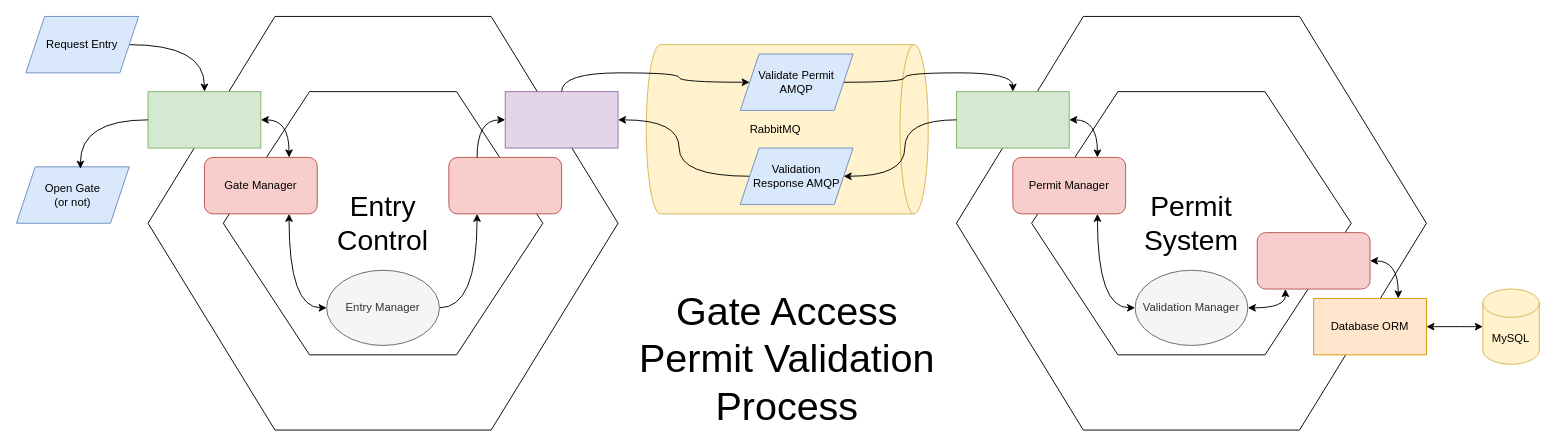
Image size: 1556x447. Some labels were removed from this diagram. The centre of each missing label's shape, as x and y in pixels:
AMQP Client: [561,119]
AMQP Receiver: [1012,119]
Gate Controller: [204,119]
Permit Persistence: [1313,260]
Validation Requester: [505,185]
